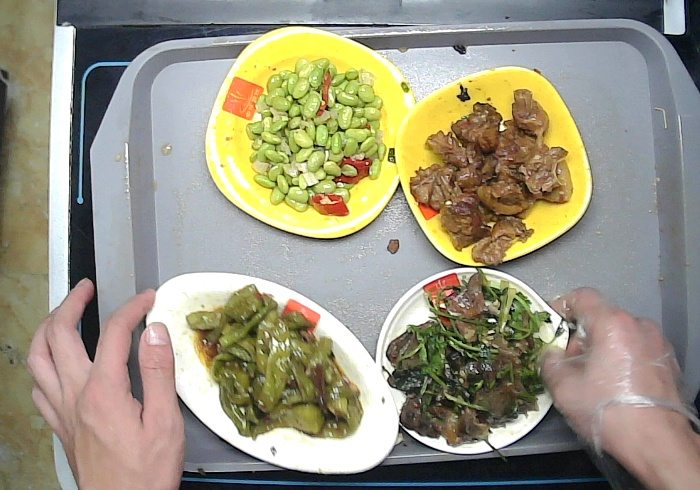SHKJ-Bao_Yu_Pan: (372, 265, 572, 456)
SHKJ-Huang_Se_Cai_Die: (393, 63, 595, 268)
SHKJ-Huang_Se_Si_Fang_Cai_Die: (202, 23, 416, 240)
SHKJ-Yu_Pan: (142, 269, 402, 477)
